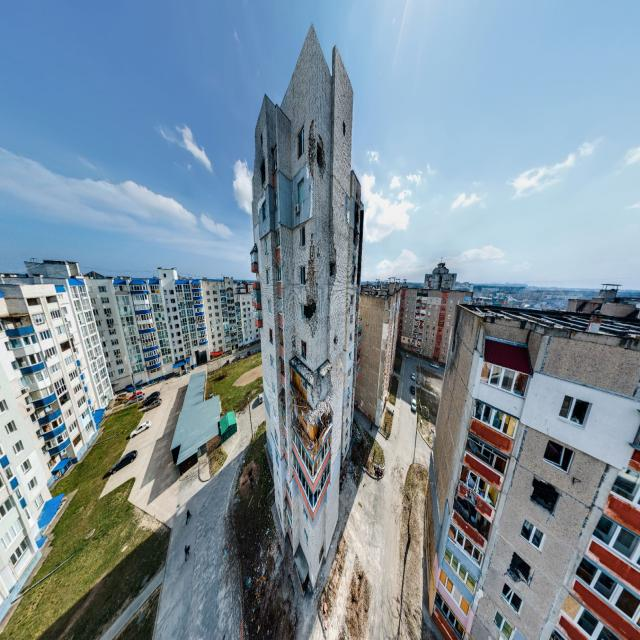building: (425, 296, 639, 638), (250, 21, 364, 594)
roof: (170, 366, 221, 467)
